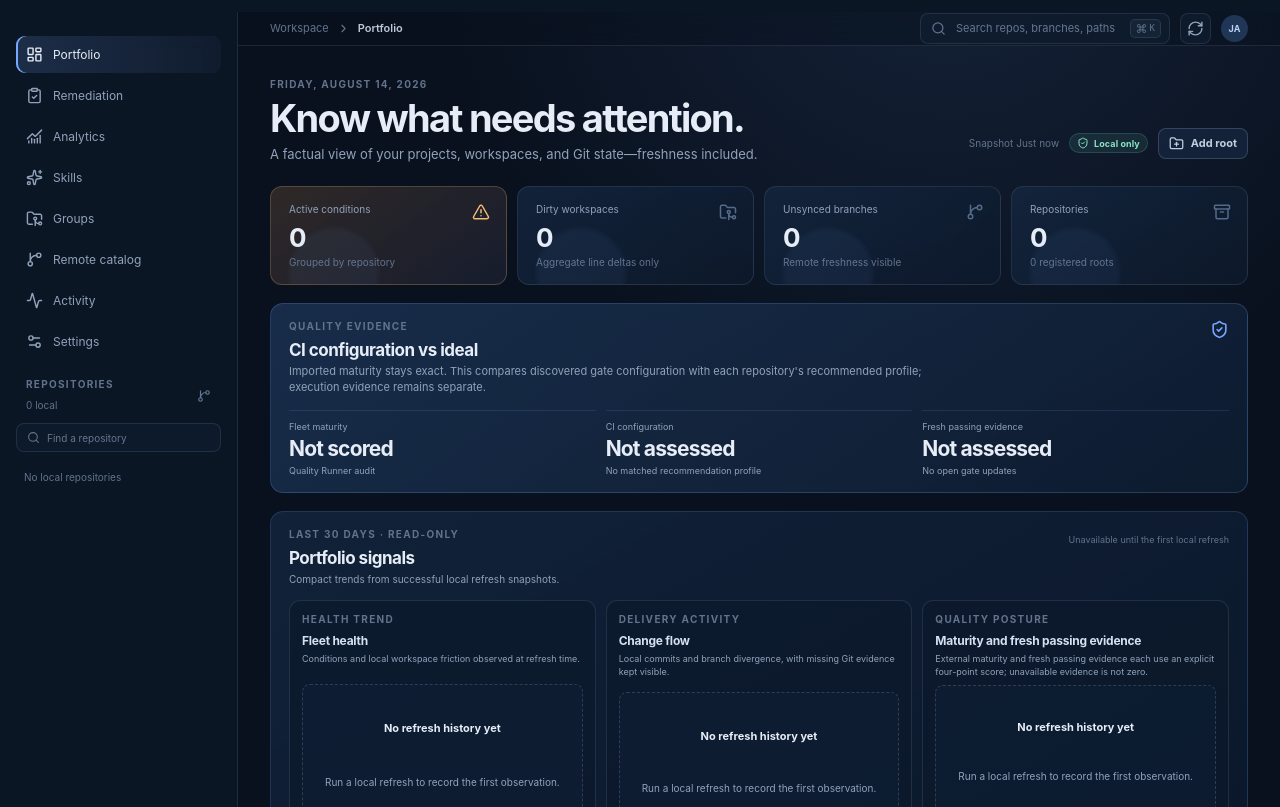
Test: Add root from portfolio page action › surfaces registration failure without crossing refresh boundaries
The image size is (1280, 807).
Click the button "Add root".
click(1203, 144)  # box [1158,128,1248,159]
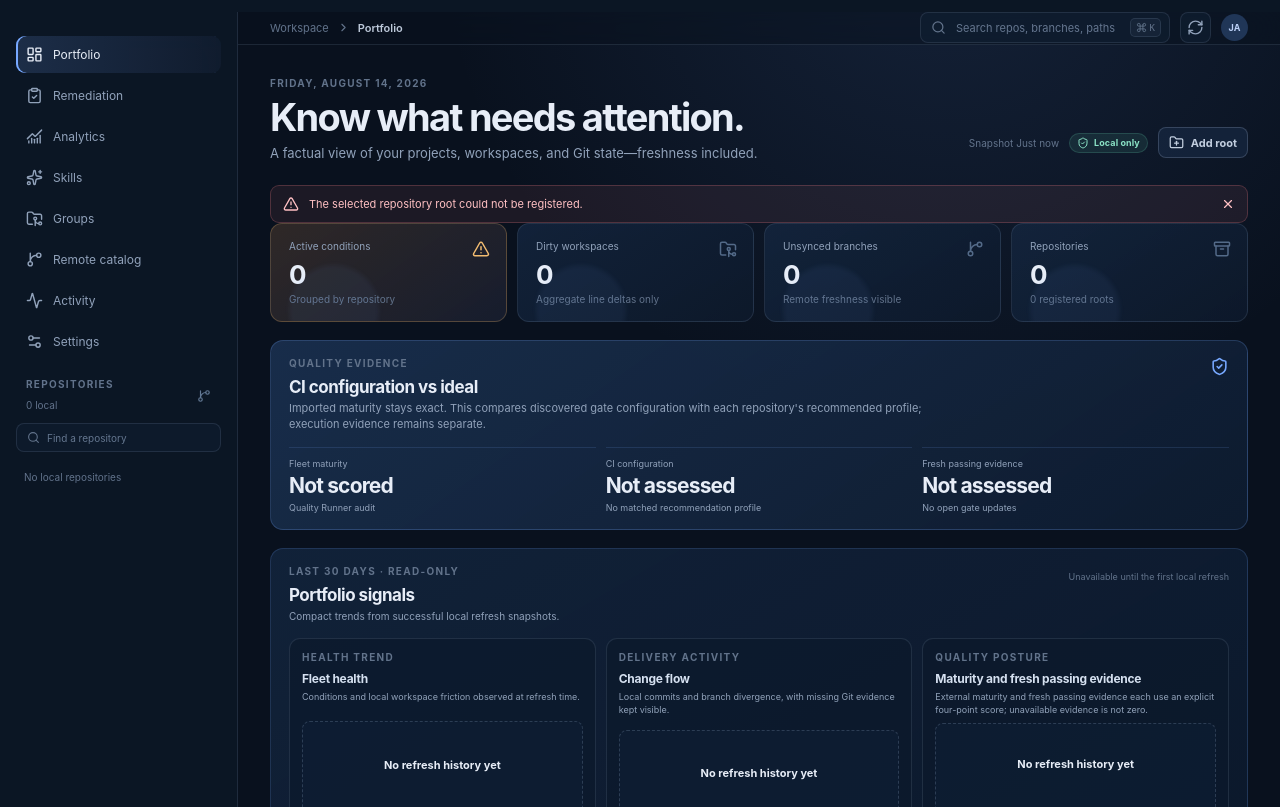
Expected: the message "The selected repository root could not be registered." is shown, [270,185,1248,223]
